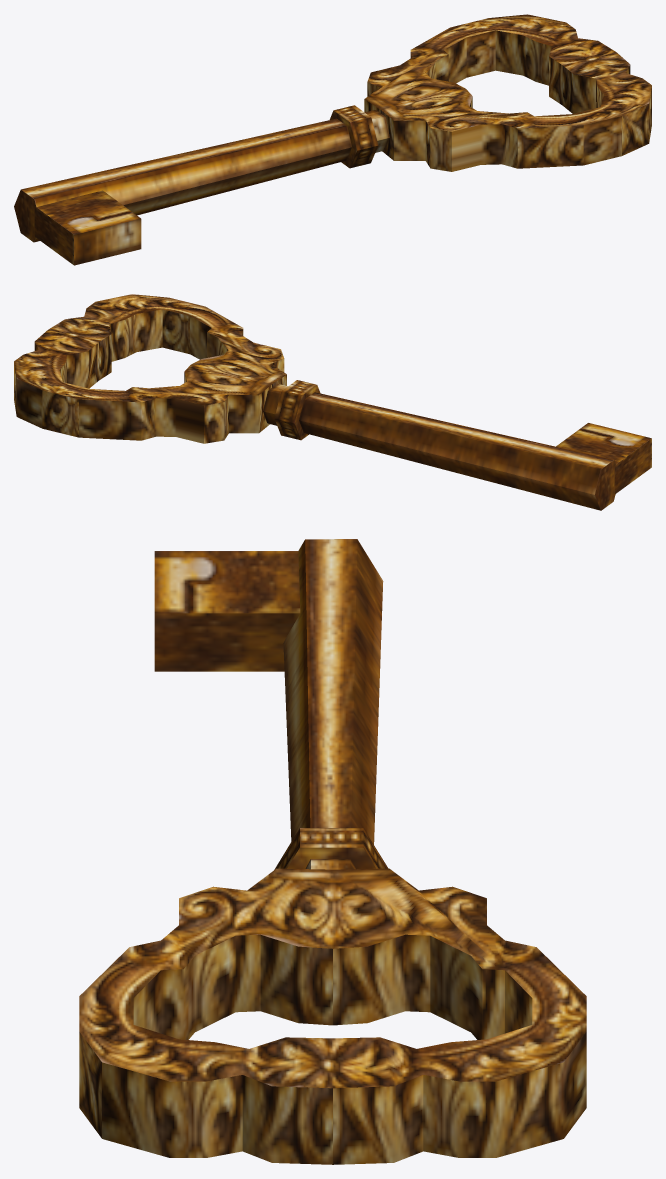
File: mm9_deco_key2.glb
3 views of the same model, one above another, from view 1: azimuth 30°, elevation 25°; view 2: azimuth 150°, elevation 25°; view 3: azimuth 270°, elevation 25° (orthographic). The views are drawn at different scales.
Visible parts, largest first — view 1: Key2; view 2: Key2; view 3: Key2.
Part boxes in pixels (box(x1,y1,x2,y2)): Key2: box(14, 14, 651, 265); Key2: box(14, 294, 651, 510); Key2: box(79, 539, 586, 1164).
Bounding box in the file's own units: 0.2134 × 0.016 × 0.0837.
Materials: 2 (2 with a texture image).
